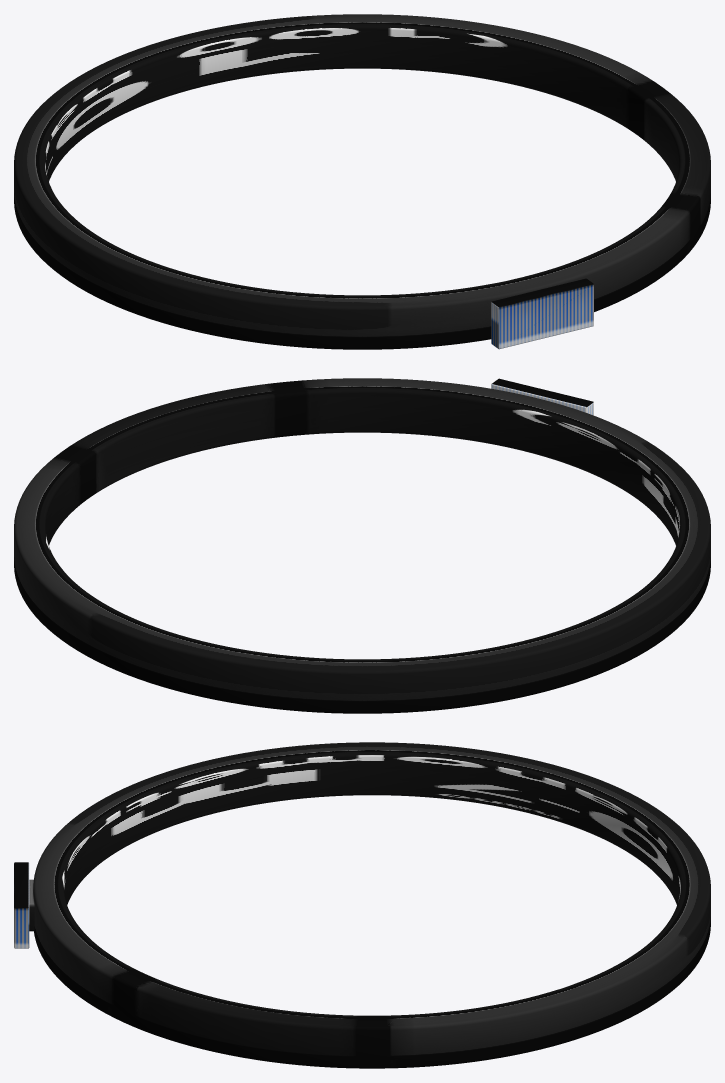
File: 05-scalering-100nm.dae
3 views of the same model, one above another, from view 1: azimuth 30°, elevation 25°; view 2: azimuth 150°, elevation 25°; view 3: azimuth 270°, elevation 25° (orthographic). The views are drawn at different scales.
Visible parts, largest first — view 1: scalering.1, screen.1; view 2: scalering.1, screen.1; view 3: scalering.1, screen.1.
Boxes of the visible parts, left/top/right/bottom form: scalering.1: left=14, top=14, right=710, bottom=349; screen.1: left=491, top=278, right=593, bottom=349; scalering.1: left=14, top=378, right=710, bottom=713; screen.1: left=491, top=378, right=593, bottom=415; scalering.1: left=33, top=742, right=710, bottom=1068; screen.1: left=14, top=862, right=29, bottom=948.
Bounding box in the file's own units: 11 × 0.75 × 11.31.
Materials: 3 (3 with a texture image).
